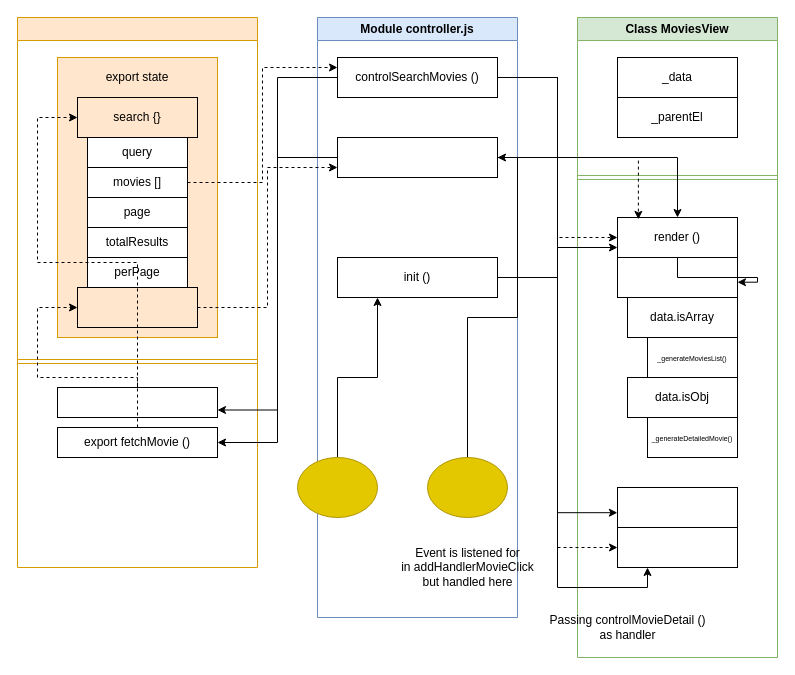
Some shapes in this 795 by 675 pixel diagram are drawn without their labels. The box of each missing label's shape, as (x1, y1, x2, y2) in pixels:
_generateMarkup (data): (616, 256, 738, 298)
addHandlerMovieClick (): (616, 526, 738, 568)
controlMovieDetail (): (336, 136, 498, 178)
export fetchMovies (): (56, 386, 218, 418)
Module model.js: (16, 16, 258, 568)
movie {}: (76, 286, 198, 328)
program starts: (296, 456, 378, 518)
renderSpinner (): (616, 486, 738, 528)
user clicks on movie list item: (426, 456, 508, 518)
